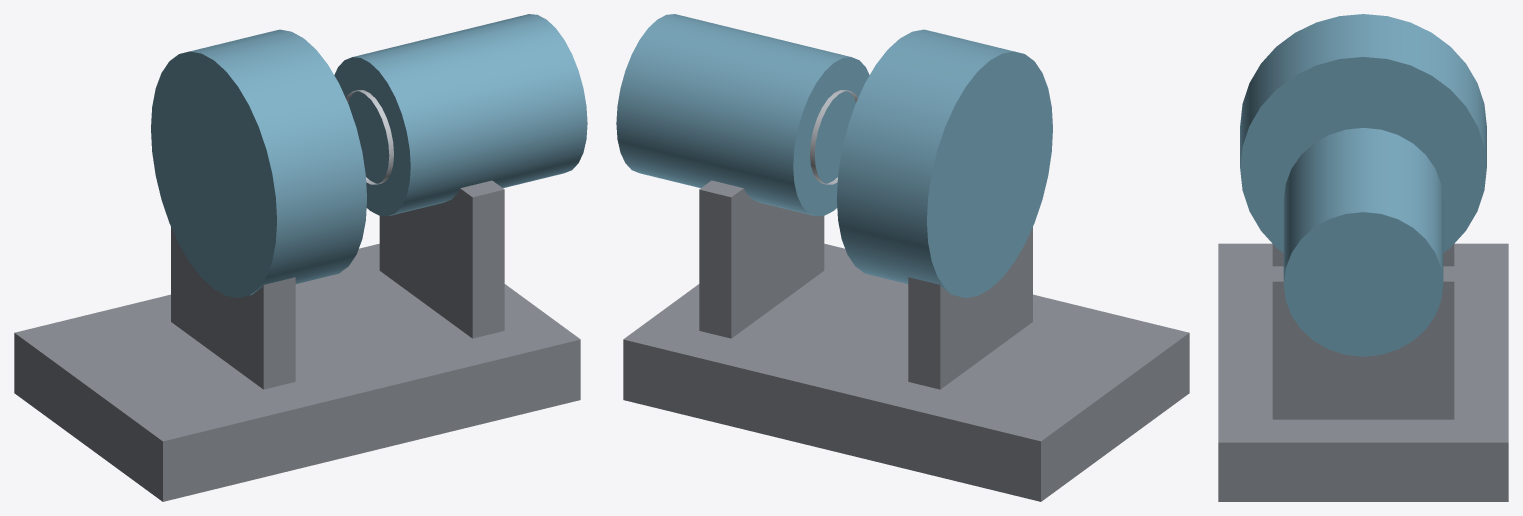
Rendered from fan_base.glb.
The picture shows the model from 3 angles, left to right: view 1: azimuth 30°, elevation 25°; view 2: azimuth 150°, elevation 25°; view 3: azimuth 270°, elevation 25°; orthographic projection. The views are drawn at different scales.
Visible parts, largest first — view 1: base, volute, motor, bracketB, bracketA, outlet; view 2: base, volute, motor, bracketB, bracketA, outlet; view 3: base, volute, motor, bracketB, bracketA.
Part boxes in pixels (x1=…): base: x1=14, y1=243, x2=580, y2=501; volute: x1=151, y1=29, x2=366, y2=297; motor: x1=334, y1=14, x2=587, y2=216; bracketB: x1=379, y1=180, x2=504, y2=338; bracketA: x1=171, y1=227, x2=295, y2=389; outlet: x1=346, y1=90, x2=393, y2=184; base: x1=623, y1=243, x2=1189, y2=501; volute: x1=837, y1=29, x2=1052, y2=297; motor: x1=616, y1=14, x2=869, y2=216; bracketB: x1=699, y1=180, x2=824, y2=338; bracketA: x1=908, y1=227, x2=1032, y2=389; outlet: x1=810, y1=90, x2=857, y2=184; base: x1=1218, y1=243, x2=1508, y2=501; volute: x1=1240, y1=14, x2=1486, y2=252; motor: x1=1283, y1=128, x2=1443, y2=356; bracketB: x1=1272, y1=266, x2=1454, y2=419; bracketA: x1=1272, y1=244, x2=1454, y2=266.
Size of the model in its own units: 1.42 by 1.06 by 0.8.
